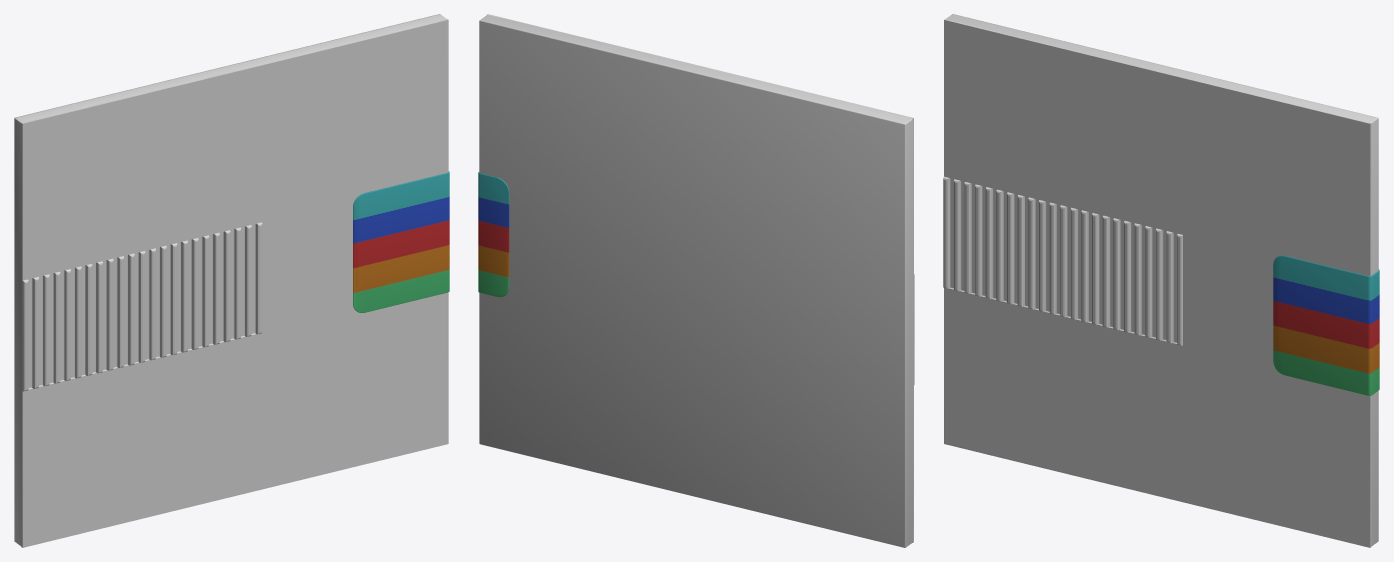
The model's file is roadmap.gltf.
The picture shows the model from 3 angles, left to right: view 1: azimuth 30°, elevation 25°; view 2: azimuth 150°, elevation 25°; view 3: azimuth 330°, elevation 25°; orthographic projection.
Visible parts, largest first — view 1: GLB-Top, GLB-Clip, GLB-Bottom; view 2: GLB-Bottom, GLB-Clip, GLB-Top; view 3: GLB-Top, GLB-Clip, GLB-Bottom.
Boxes of the visible parts, <box> form: GLB-Top: <box>21,19,448,547</box>; GLB-Clip: <box>353,171,449,312</box>; GLB-Bottom: <box>14,14,447,546</box>; GLB-Bottom: <box>479,15,913,547</box>; GLB-Clip: <box>478,172,509,297</box>; GLB-Top: <box>487,14,914,542</box>; GLB-Top: <box>943,19,1371,547</box>; GLB-Clip: <box>1273,255,1379,395</box>; GLB-Bottom: <box>944,14,1378,546</box>.
Size of the model in its own units: 10.72 by 10.16 by 0.4714.
7 materials, 3 textured.
